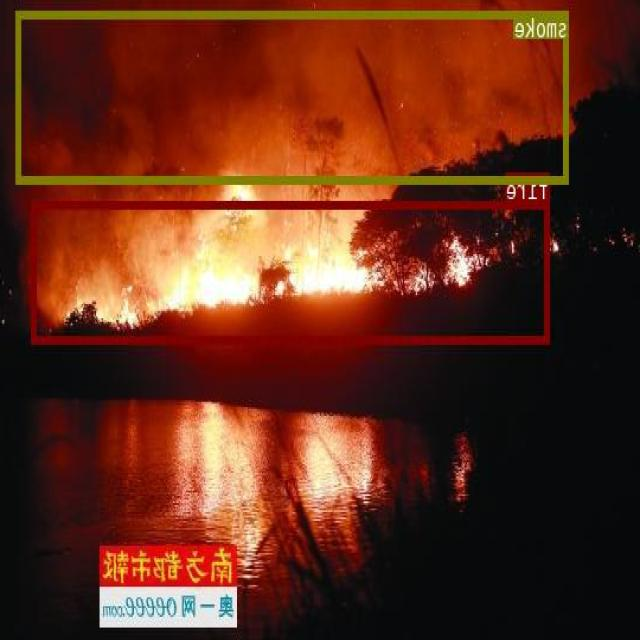fire: (32, 200, 550, 342)
smoke: (17, 10, 570, 183)
